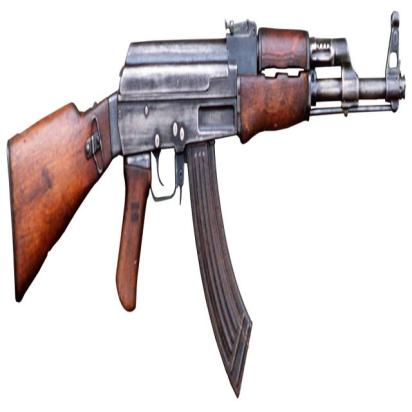Gun: (2, 3, 407, 399)
